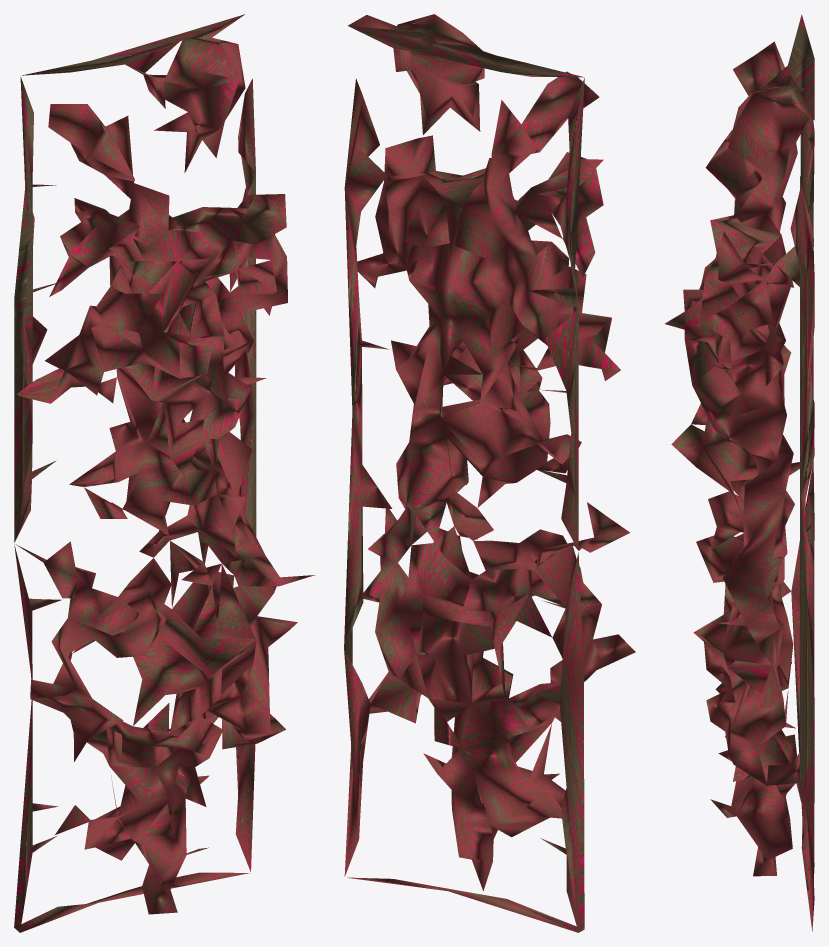
The model's file is trellis_lod1.glb.
3 renders of one model, left to right at view 1: azimuth 30°, elevation 25°; view 2: azimuth 150°, elevation 25°; view 3: azimuth 270°, elevation 25°, orthographic. The views are drawn at different scales.
Size of the model in its own units: 0.6009 by 1.85 by 0.3087.
Materials: 1 (1 with a texture image).
